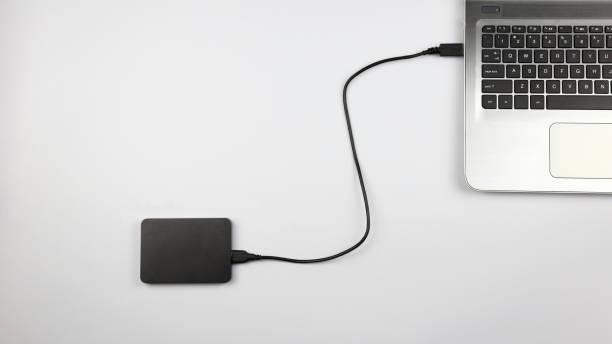HDD: (139, 218, 237, 286)
